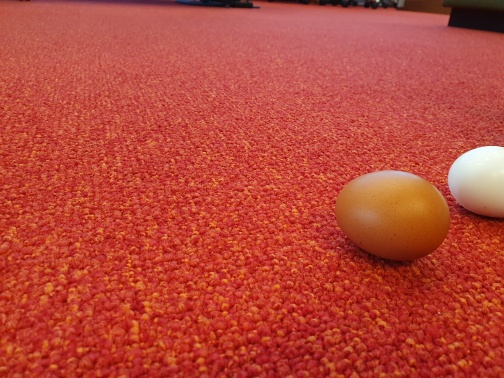egg: (335, 169, 448, 264), (448, 145, 504, 221)
